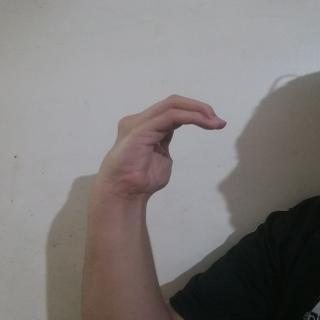HAA: (80, 78, 227, 191)
